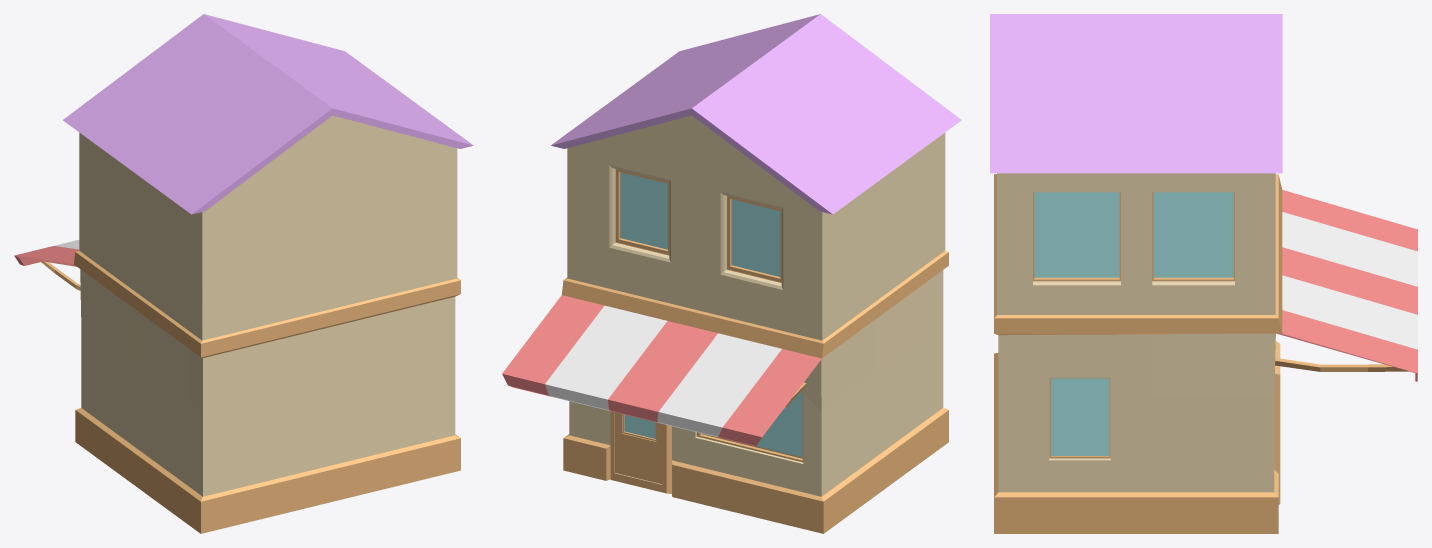
Rendered from house with uv.fbx.
3 views of the same model, side by side, from view 1: azimuth 30°, elevation 25°; view 2: azimuth 150°, elevation 25°; view 3: azimuth 270°, elevation 25° (orthographic). The views are drawn at different scales.
Parts seen in each view (by area): view 1: Cube; view 2: Cube; view 3: Cube.
Boxes of the visible parts, left/top/right/bottom form: Cube: left=14, top=14, right=473, bottom=533; Cube: left=502, top=14, right=961, bottom=533; Cube: left=990, top=14, right=1417, bottom=533.
Bounding box in the file's own units: 3963 × 5298 × 4584.
Materials: 1 (1 with a texture image).
